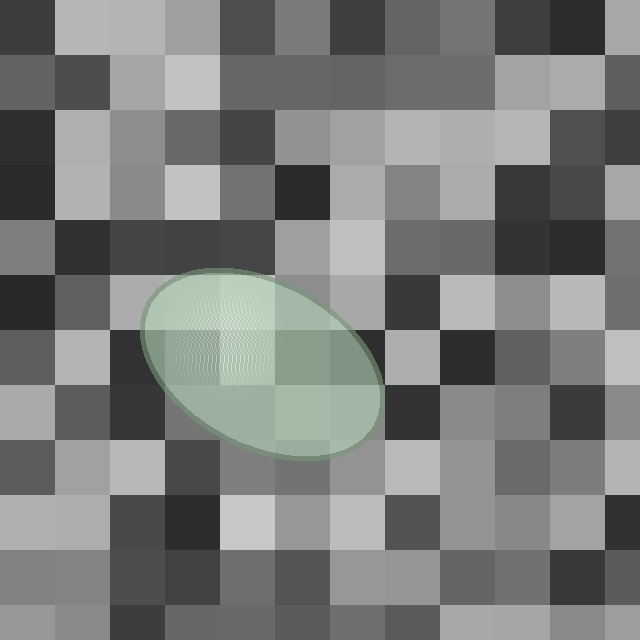lens: (142, 270, 382, 458)
